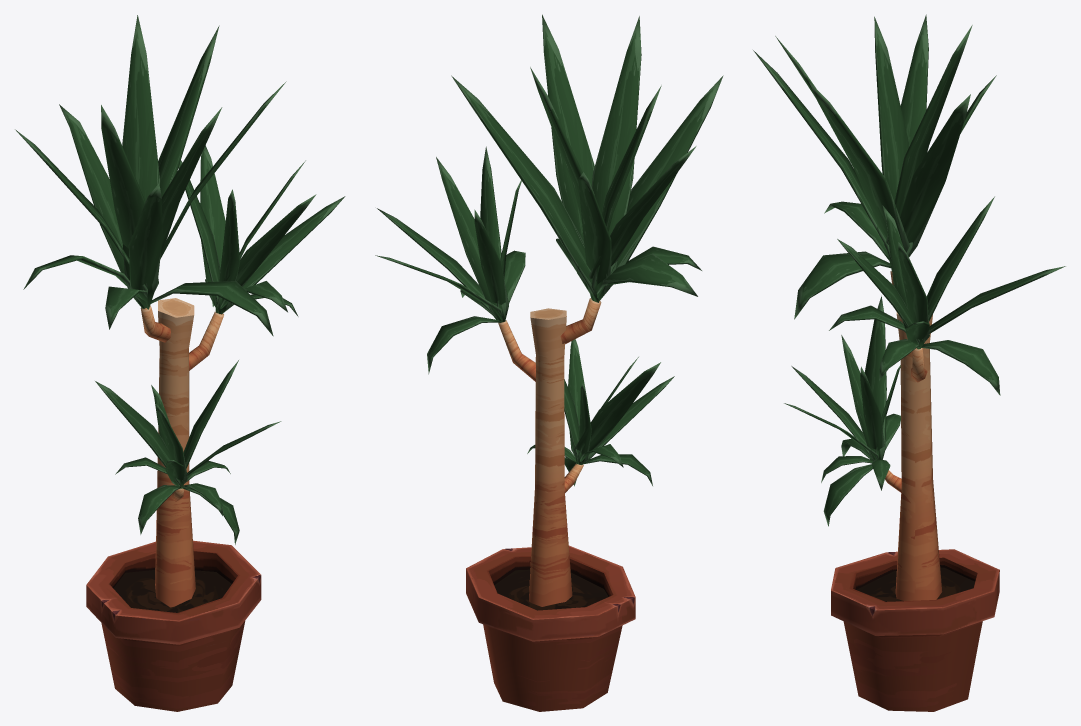
Rendered from SM_PROP_plant_interior_08.fbx.
The picture shows the model from 3 angles, left to right: view 1: azimuth 30°, elevation 25°; view 2: azimuth 150°, elevation 25°; view 3: azimuth 270°, elevation 25°; orthographic projection. The views are drawn at different scales.
Parts seen in each view (by area): view 1: SM_PROP_plant_interior_08; view 2: SM_PROP_plant_interior_08; view 3: SM_PROP_plant_interior_08.
Part boxes in pixels (x1,y1,x2,y2): SM_PROP_plant_interior_08: [15, 15, 345, 711]; SM_PROP_plant_interior_08: [375, 14, 723, 711]; SM_PROP_plant_interior_08: [753, 14, 1065, 711].
Size of the model in its own units: 100 by 190 by 82.1.
